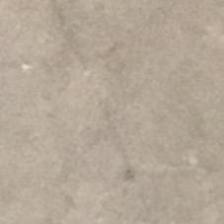Non_Crack: (11, 10, 219, 214)
